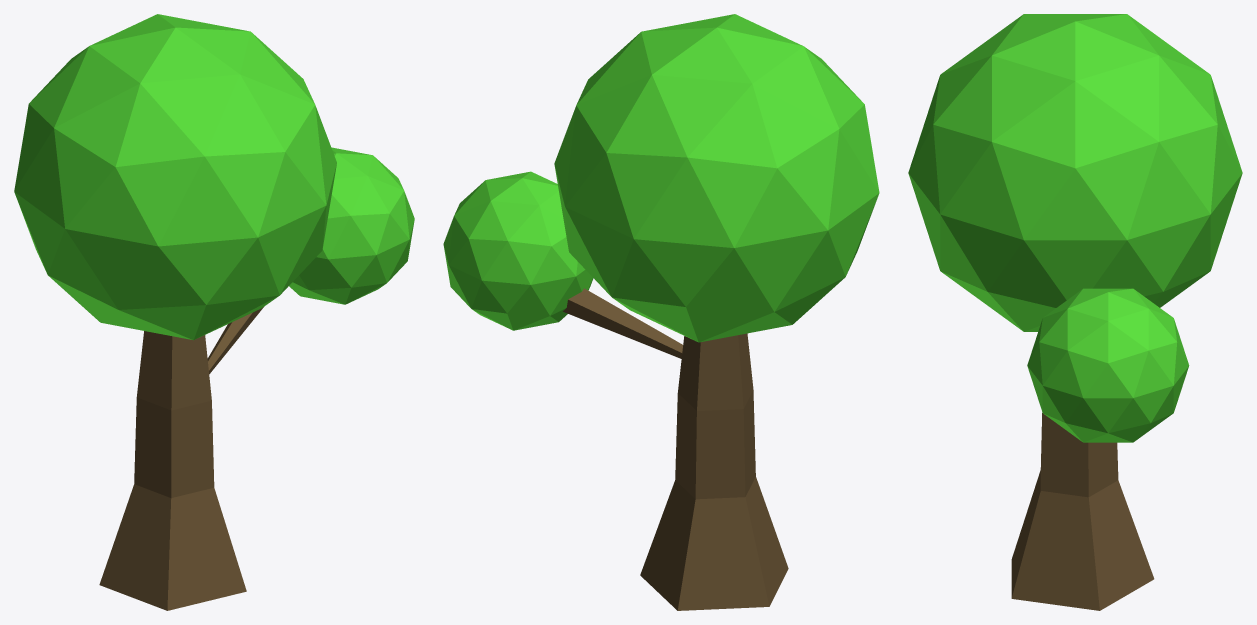
Rendered from tree.glb.
3 renders of one model, left to right at view 1: azimuth 30°, elevation 25°; view 2: azimuth 150°, elevation 25°; view 3: azimuth 270°, elevation 25°, orthographic.
Visible parts, largest first — view 1: Cylinder; view 2: Cylinder; view 3: Cylinder.
Part boxes in pixels (x1,y1,x2,y2): Cylinder: (14, 14, 414, 610); Cylinder: (443, 14, 879, 610); Cylinder: (908, 14, 1242, 610).
Size of the model in its own units: 8.11 by 11.26 by 6.12.
1 material, 1 textured.
